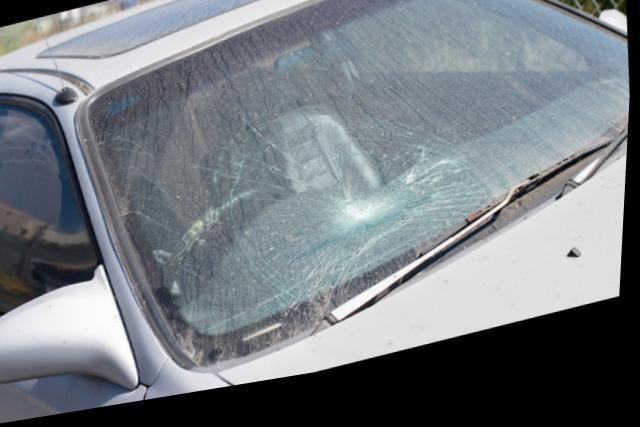glass shatter: (89, 0, 632, 374)
